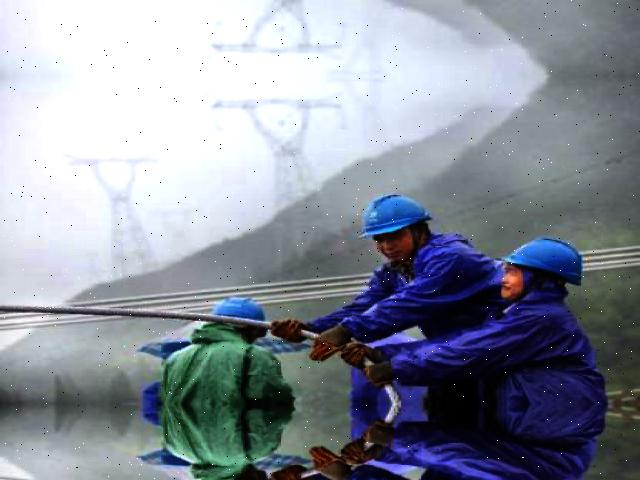Helmet: (496, 232, 585, 287), (352, 186, 434, 245)
